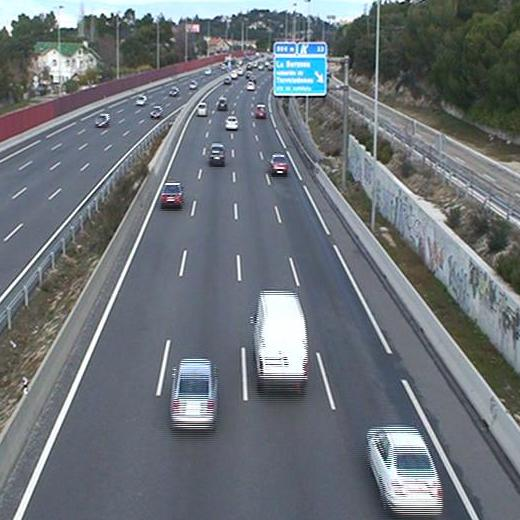car: (368, 424, 442, 516), (170, 358, 218, 429), (158, 182, 184, 207), (206, 143, 228, 165), (268, 153, 289, 175), (225, 115, 239, 129), (196, 102, 207, 118), (255, 104, 266, 118), (217, 98, 227, 112)
van: (251, 291, 309, 387)
